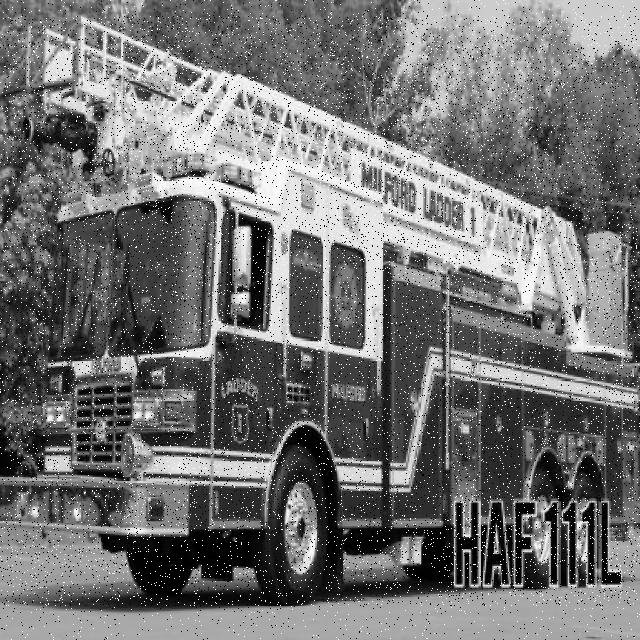Fire Truck: (0, 16, 640, 606)
